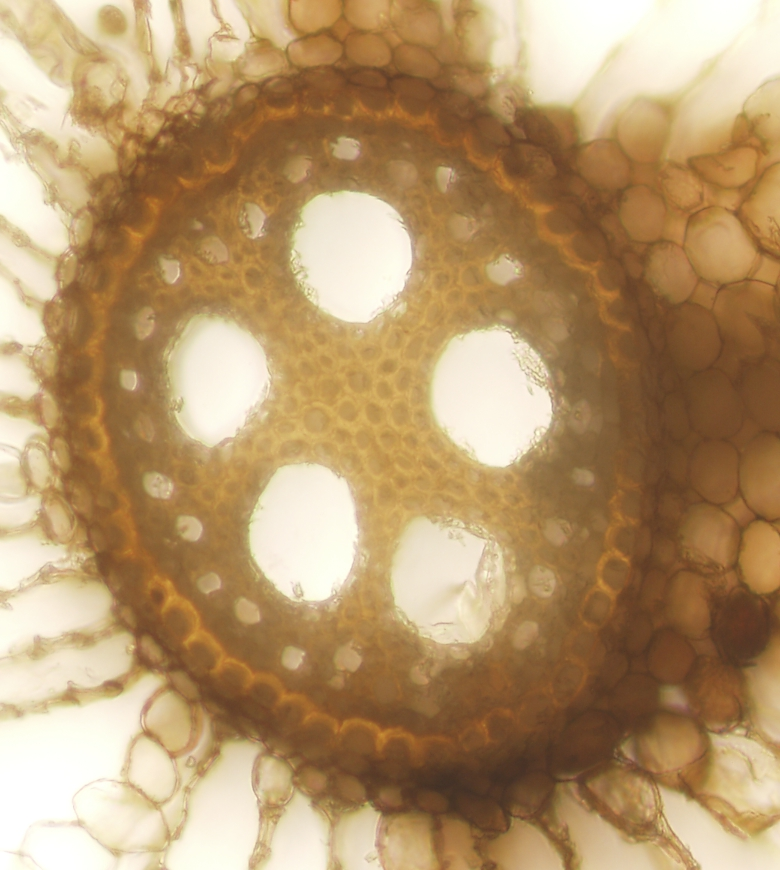lm: (429, 325, 552, 465), (290, 188, 413, 324), (249, 462, 360, 605), (388, 514, 506, 648), (165, 311, 273, 447)
